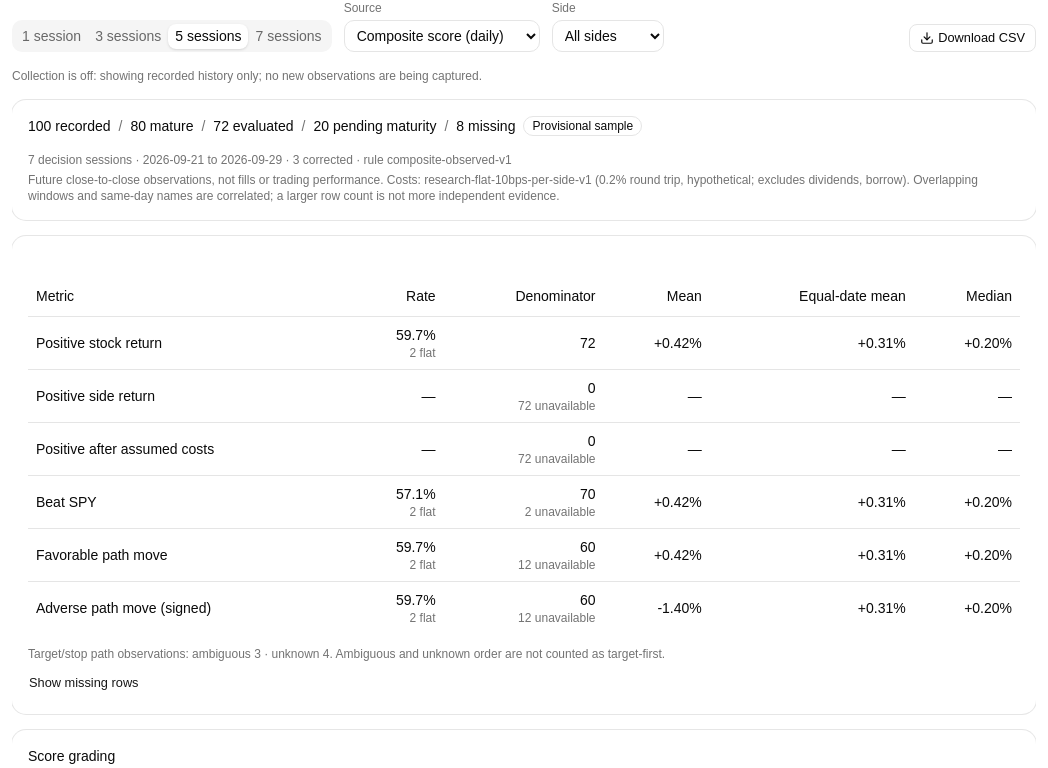
Test: composite observation drilldown shows the recorded score and lean
The width and height of the screenshot is (1048, 768).
Click the button "Show missing rows": (84, 684) [28,670,140,698]
(page scrolled)
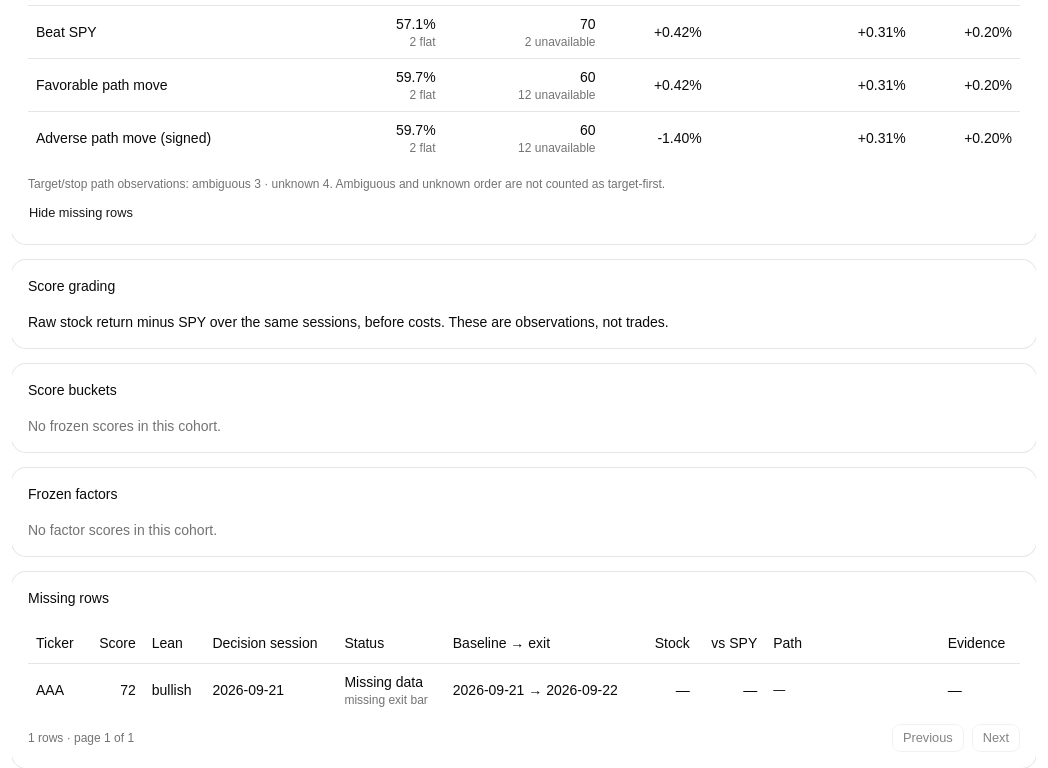
Check: the column heading "Score" is shown, box [86,624,144,664]
Check: the row "AAA" shows "72", box [120,682,136,698]
Check: the row "AAA" shows "bullish", box [152,682,191,698]
